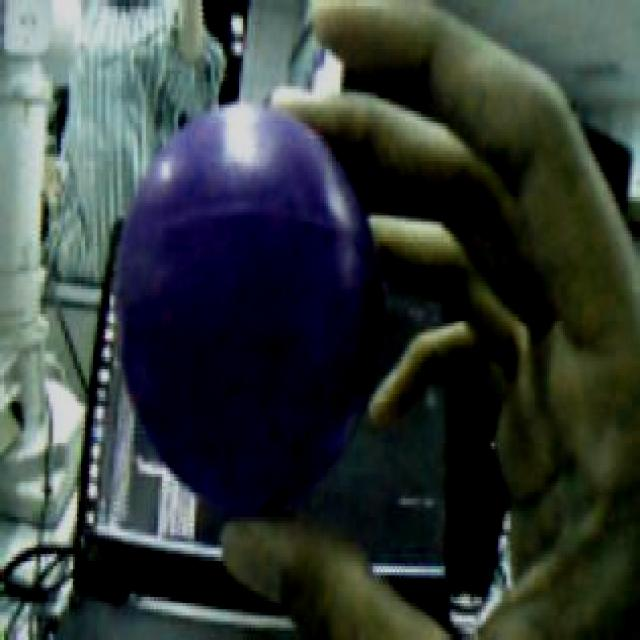BallPurple: (115, 101, 377, 514)
